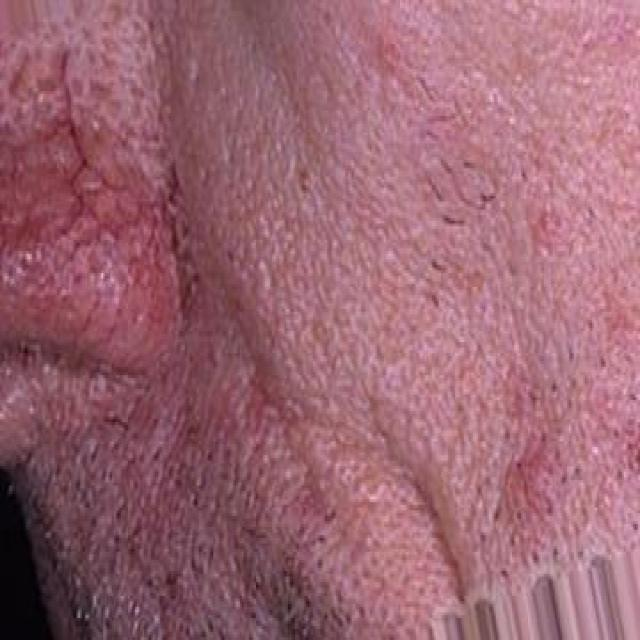Rosacea: (0, 42, 200, 333)
